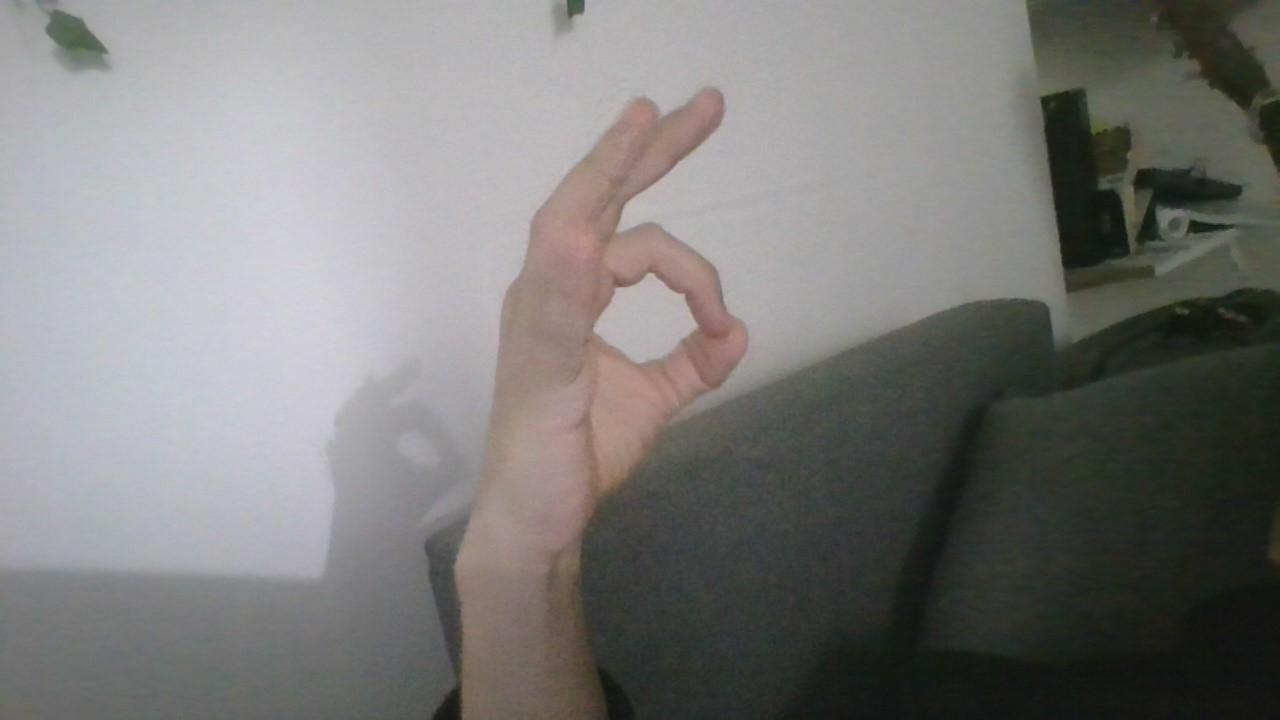zero: (450, 63, 790, 544)
